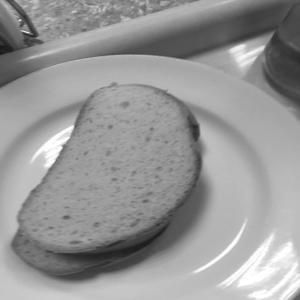bread: (7, 62, 211, 280)
